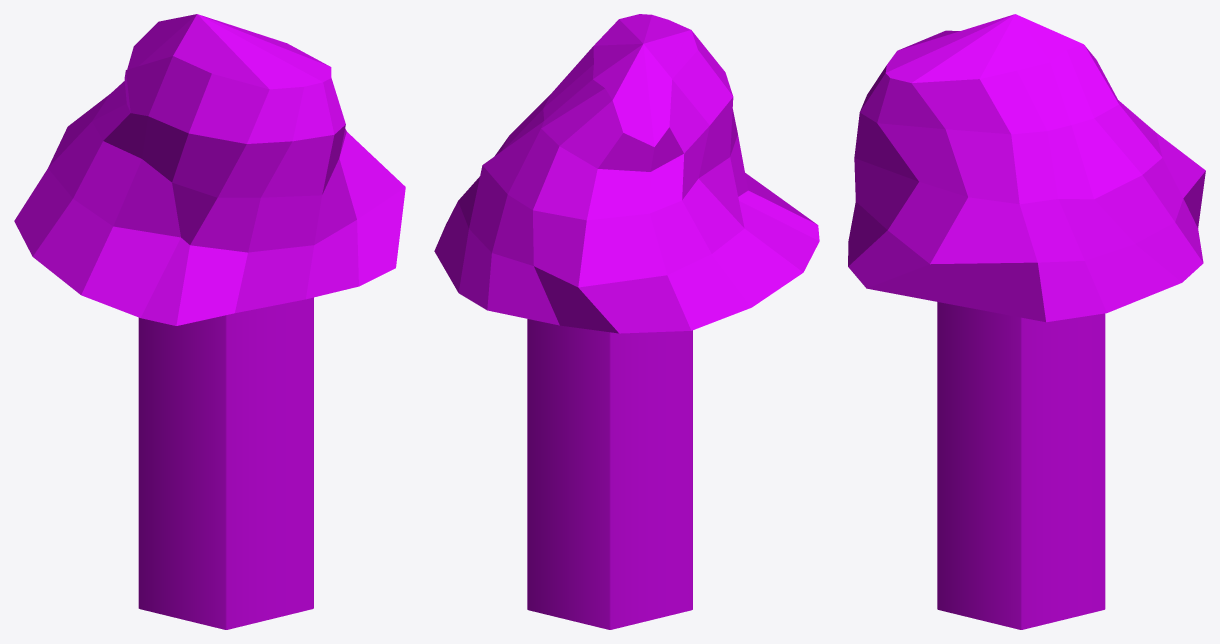
Rendered from RocktestTall.FBX.
3 renders of one model, left to right at view 1: azimuth 30°, elevation 25°; view 2: azimuth 150°, elevation 25°; view 3: azimuth 270°, elevation 25°, orthographic. The views are drawn at different scales.
Parts seen in each view (by area): view 1: Object177; view 2: Object177; view 3: Object177.
Boxes of the visible parts, bbox=[...] form: Object177: bbox=[14, 14, 405, 629]; Object177: bbox=[434, 14, 819, 629]; Object177: bbox=[848, 14, 1205, 629].
Bounding box in the file's own units: 482 × 463 × 800.
